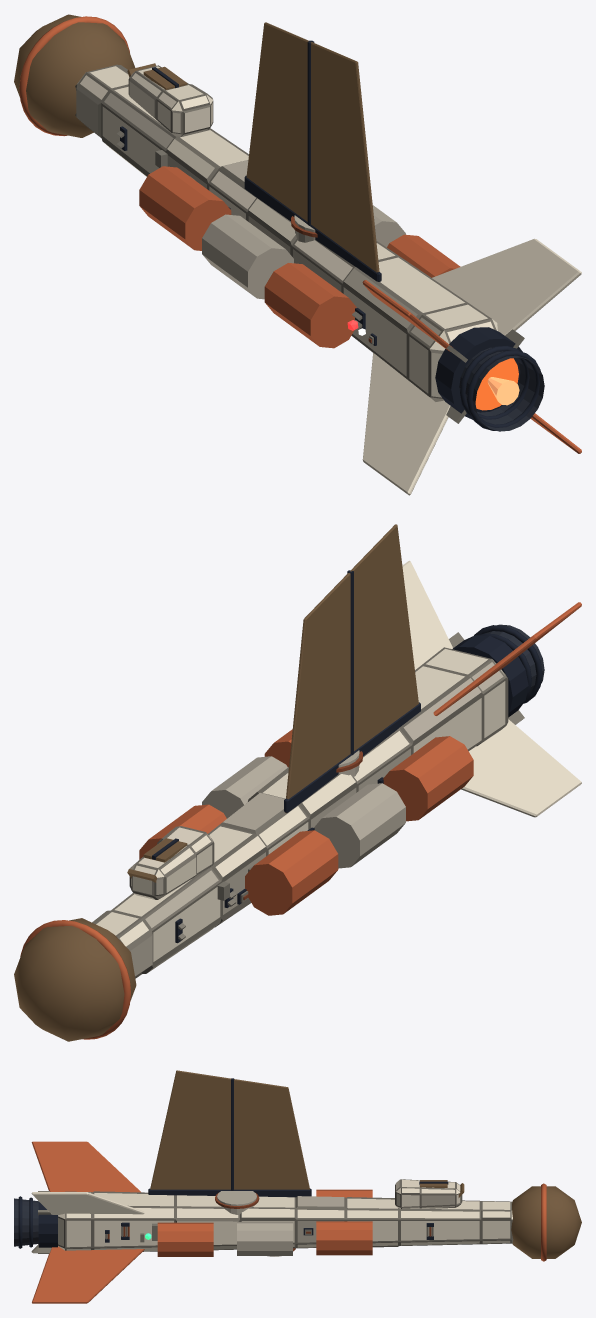
File: wayfarer.glb
3 renders of one model, top to bottom at view 1: azimuth 30°, elevation 25°; view 2: azimuth 150°, elevation 25°; view 3: azimuth 270°, elevation 25°, orthographic. The views are drawn at different scales.
Visible parts, largest first — view 1: wayfarer_mesh; view 2: wayfarer_mesh; view 3: wayfarer_mesh.
Boxes of the visible parts, x1,y1,x2,y2 form: wayfarer_mesh: (14,14,581,495); wayfarer_mesh: (14,524,581,1041); wayfarer_mesh: (14,1070,581,1303).
Bounding box in the file's own units: 3.15 × 5.72 × 14.59.
